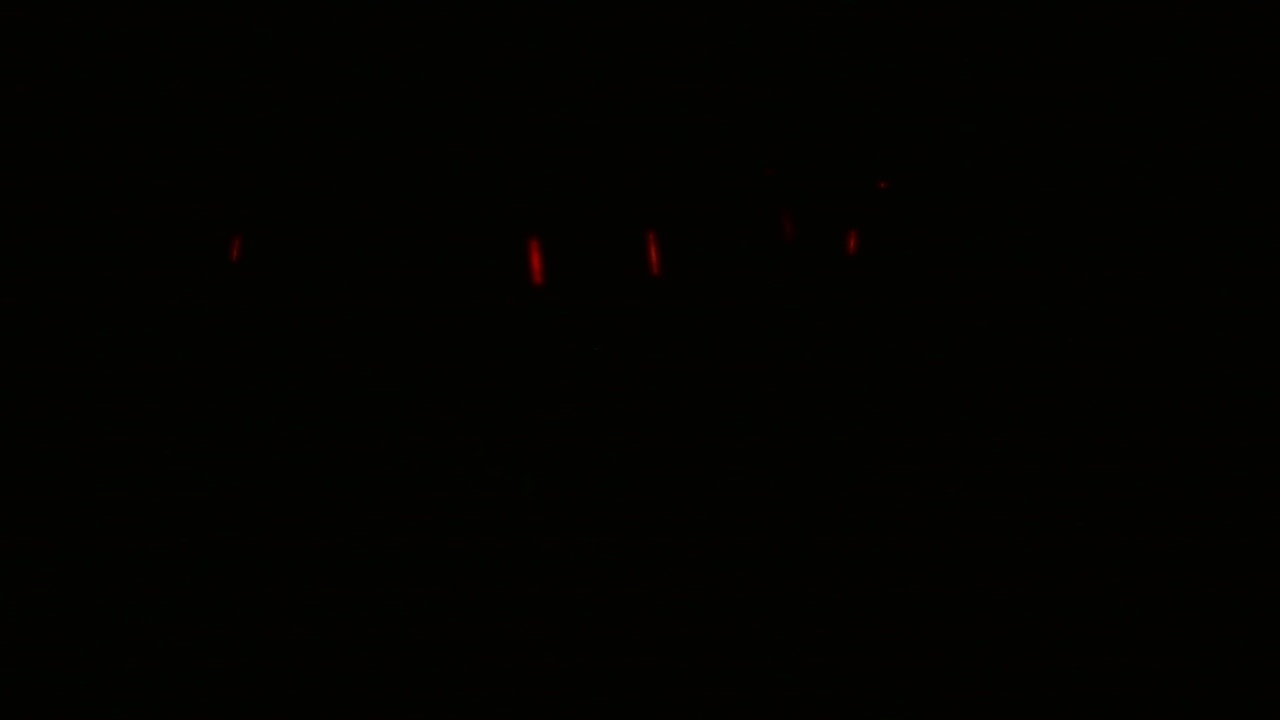pair1: (520, 223, 671, 296)
